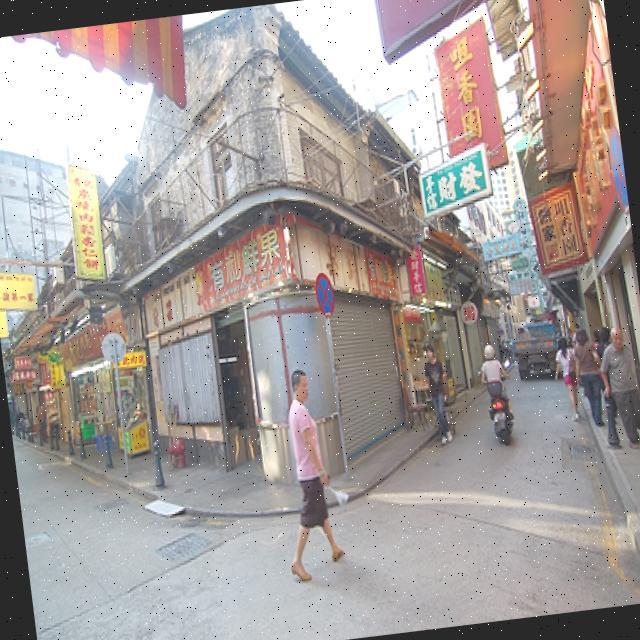fire_hydrant: (601, 393, 621, 444)
